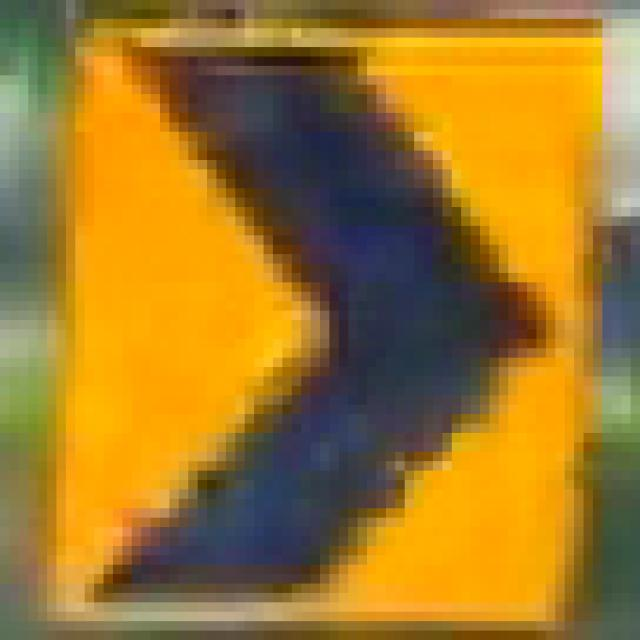curveright_sign: (38, 9, 602, 630)
